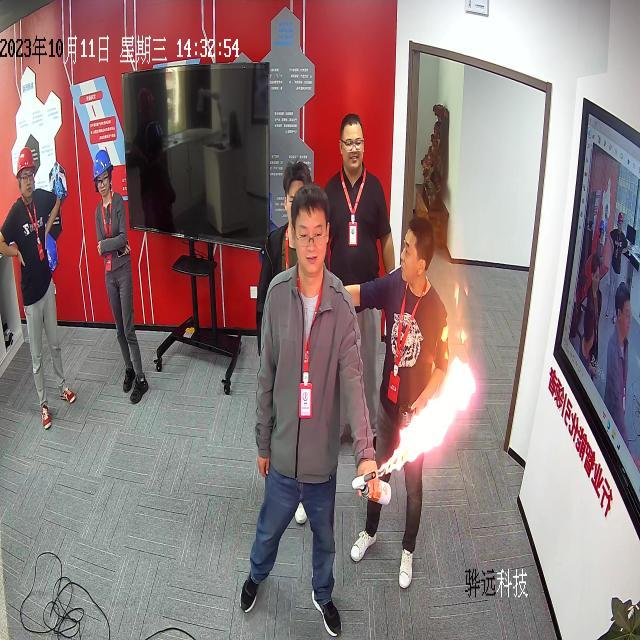Fire: (374, 358, 476, 476)
